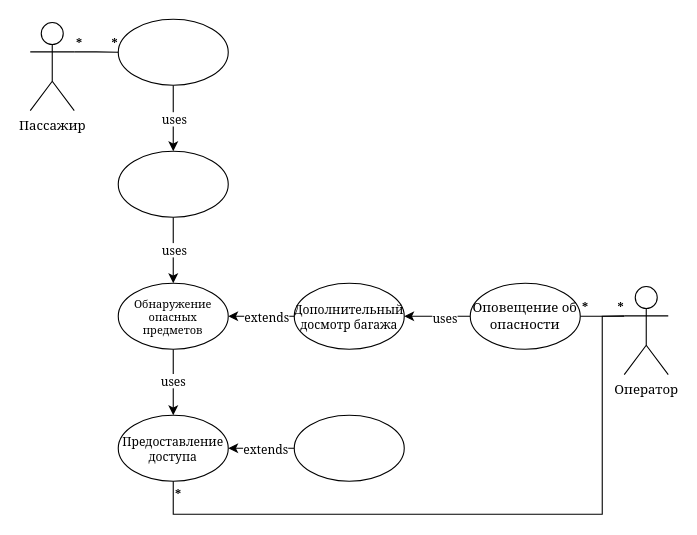
The diagram is 697 pixels wide and 535 high, and some of its shapes have lost their labels. The centre of each missing label's shape, as x and y in pixels:
Определение наличия опасных предметов: pixel 172 183
Отказ в доступе: pixel 348 447
Сканирование багажа: pixel 172 51
